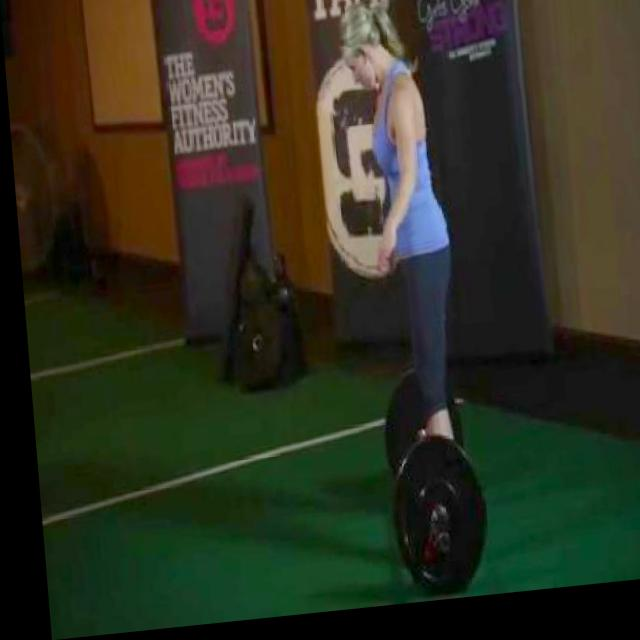barbell: (370, 433, 490, 613)
